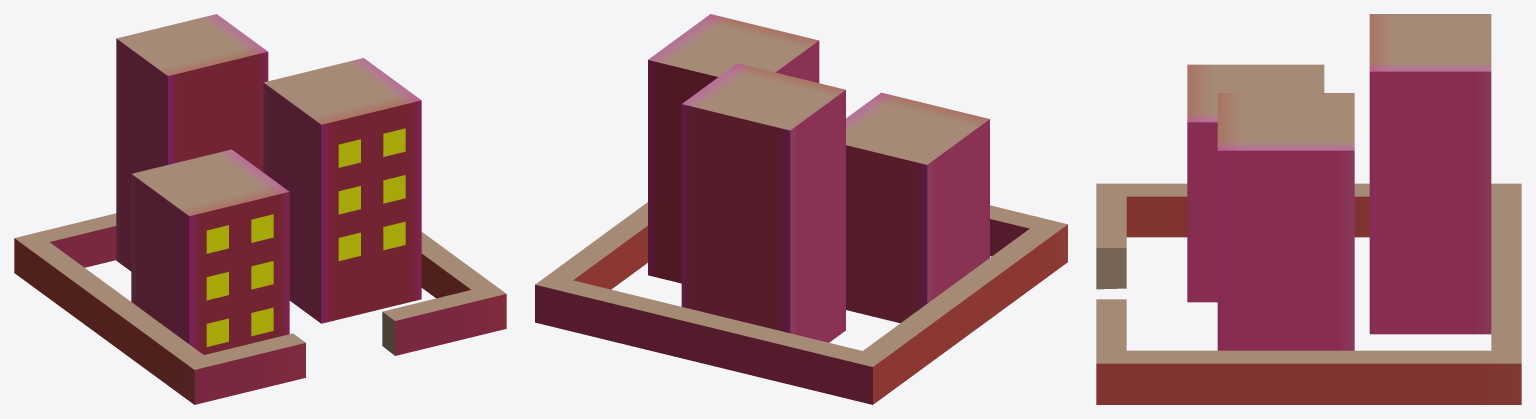
File: City.RedTower.glb
3 renders of one model, left to right at view 1: azimuth 30°, elevation 25°; view 2: azimuth 150°, elevation 25°; view 3: azimuth 270°, elevation 25°, orthographic. The views are drawn at different scales.
Parts seen in each view (by area): view 1: City.RedTower; view 2: City.RedTower; view 3: City.RedTower.
Boxes of the visible parts, box(x1,y1,x2,y2) form: City.RedTower: box(14, 14, 506, 404); City.RedTower: box(535, 14, 1067, 404); City.RedTower: box(1096, 14, 1521, 404).
Bounding box in the file's own units: 2.8 × 1.91 × 2.8.
2 materials, 1 textured.
